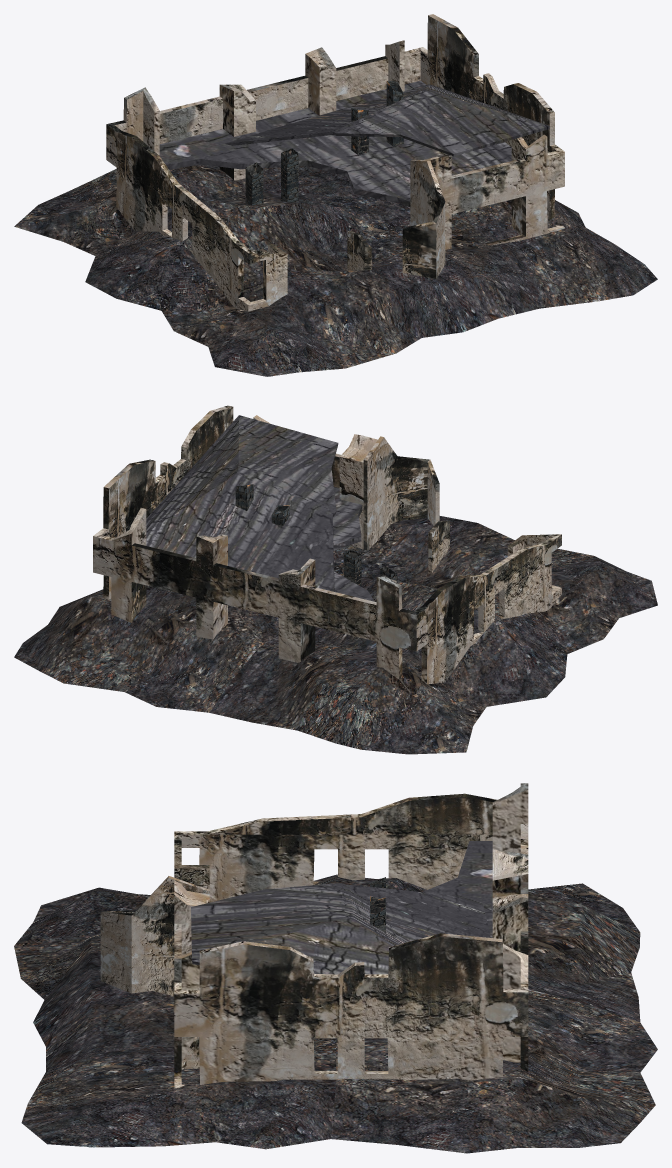
Rendered from large_haus_ruins.fbx.
The picture shows the model from 3 angles, top to bottom: view 1: azimuth 30°, elevation 25°; view 2: azimuth 150°, elevation 25°; view 3: azimuth 270°, elevation 25°; orthographic projection. The views are drawn at different scales.
Visible parts, largest first — view 1: large_haus_ruins_LOD0; view 2: large_haus_ruins_LOD0; view 3: large_haus_ruins_LOD0.
Boxes of the visible parts, x1=… form: large_haus_ruins_LOD0: x1=14, y1=14, x2=657, y2=376; large_haus_ruins_LOD0: x1=14, y1=405, x2=657, y2=754; large_haus_ruins_LOD0: x1=14, y1=783, x2=657, y2=1153.
Size of what is drawn, in the model's own units: 25.46 by 7.95 by 25.46.
